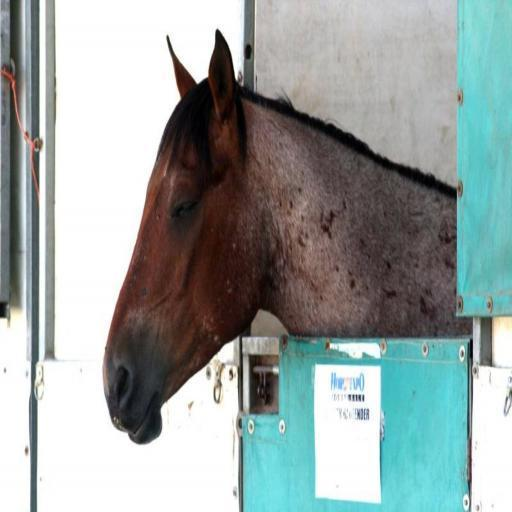horse: (102, 28, 474, 446)
